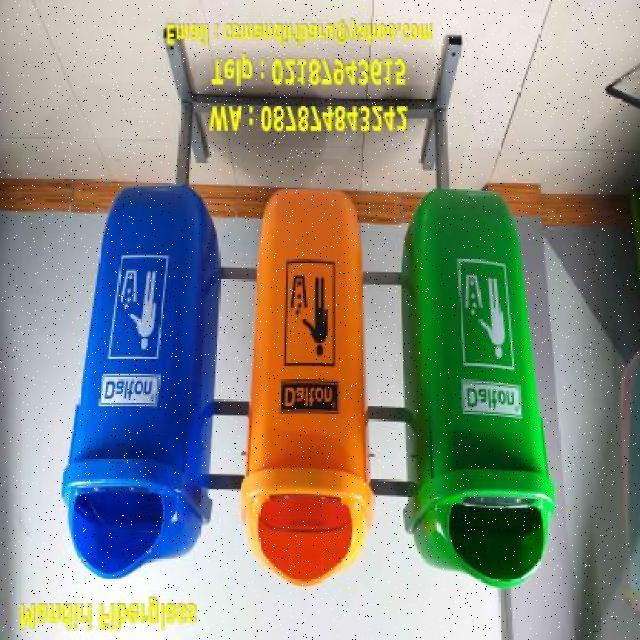garbage container: (395, 152, 563, 609), (53, 153, 224, 589), (232, 173, 383, 606)
